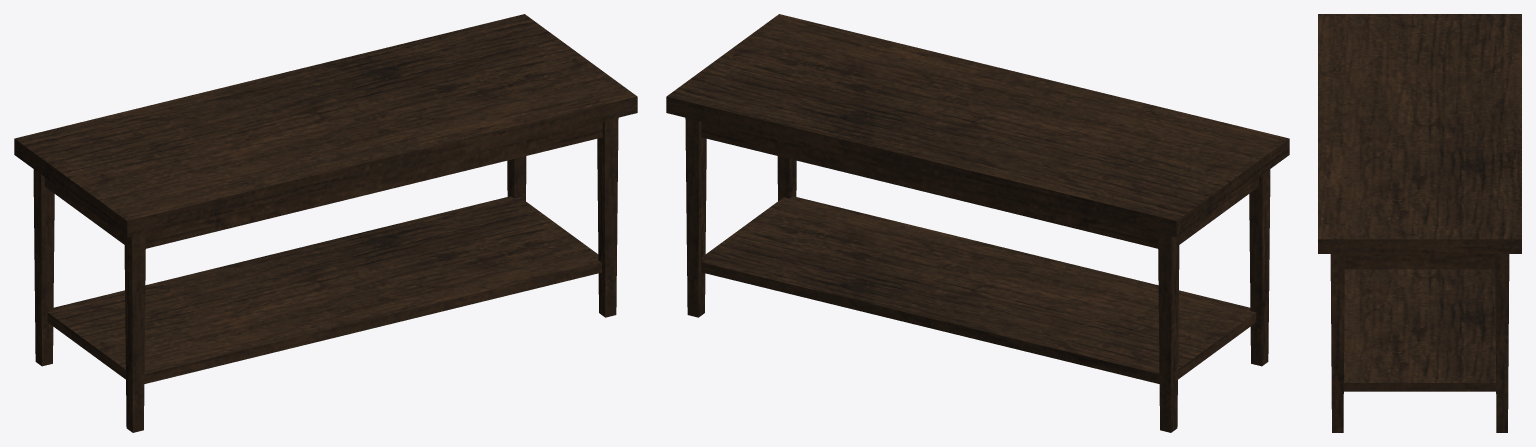
File: coffee_table_1_1.fbx
3 renders of one model, left to right at view 1: azimuth 30°, elevation 25°; view 2: azimuth 150°, elevation 25°; view 3: azimuth 270°, elevation 25°, orthographic. The views are drawn at different scales.
Visible parts, largest first — view 1: coffee_table_1_1; view 2: coffee_table_1_1; view 3: coffee_table_1_1.
Part boxes in pixels (box(x1,y1,x2,y2)): coffee_table_1_1: box(14, 14, 637, 432); coffee_table_1_1: box(666, 14, 1289, 432); coffee_table_1_1: box(1318, 14, 1521, 432).
Size of the model in its own units: 1.62 by 0.62 by 0.67.
